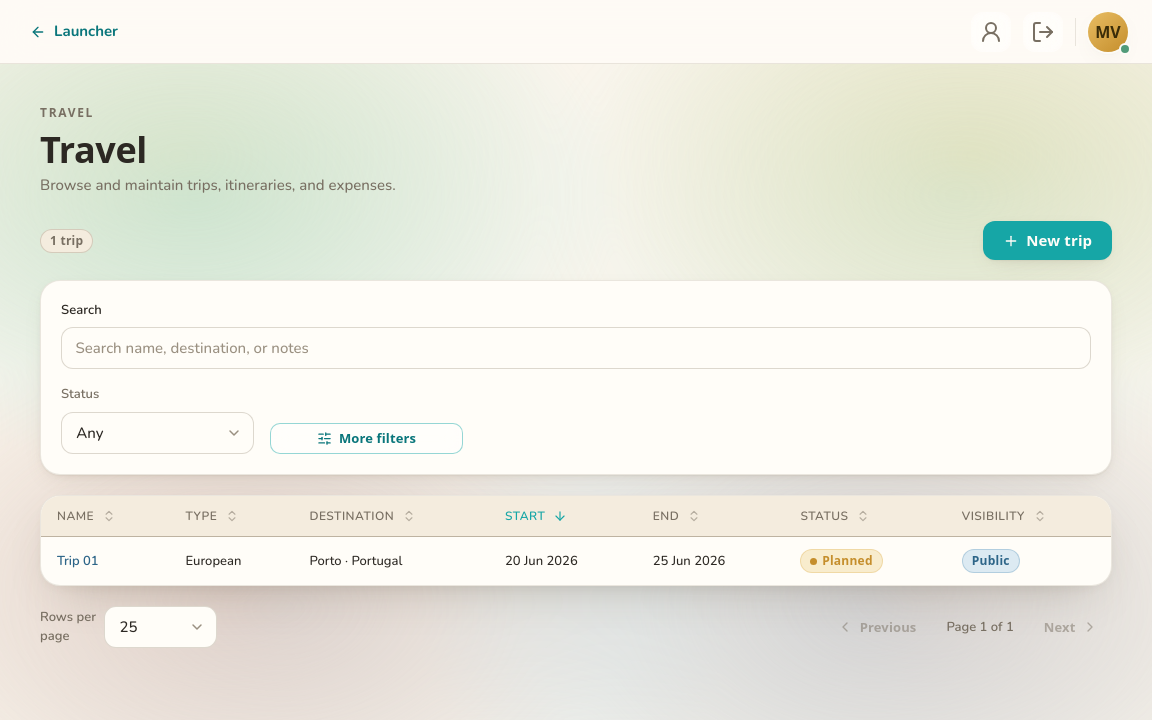
Scenario: Travel trips view › opens the new trip editor
Expected: the button "Trip 01" is shown, [57,552,99,571]
Click the button "New trip": coordinates (1047, 241) [983,221,1112,260]
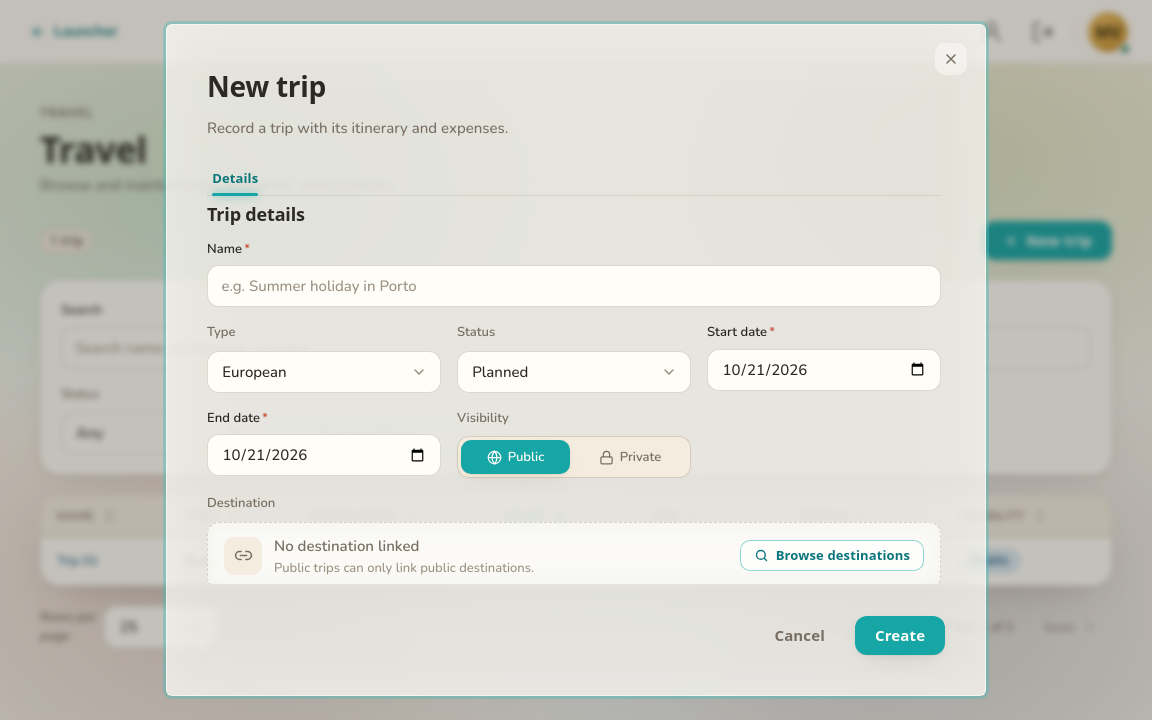
Now the dialog "New trip" is shown
